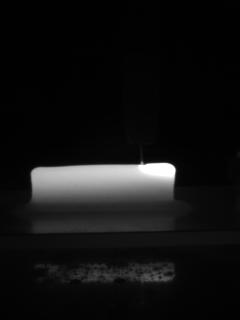tip_wire_left: (125, 139, 143, 165)
tip_wire_right: (140, 139, 155, 165)
